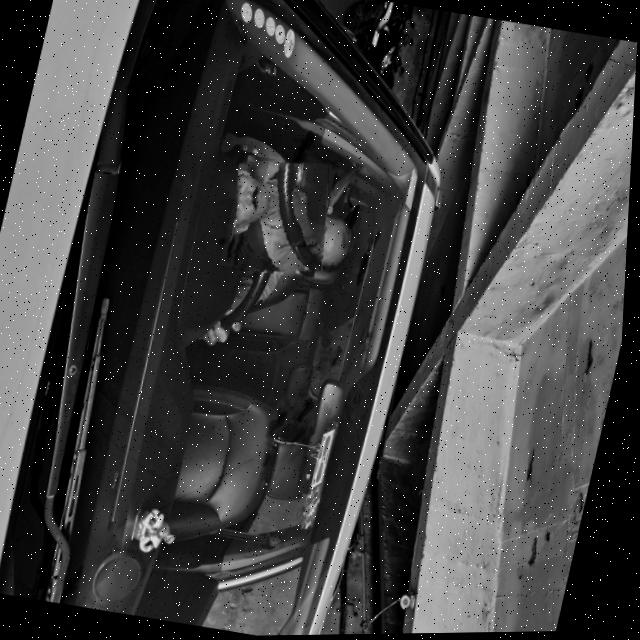no-seatbelt: (220, 151, 343, 282)
